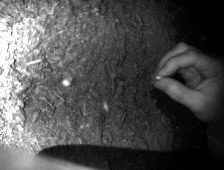corn: (62, 80, 70, 87), (103, 102, 109, 111), (155, 75, 162, 81)
